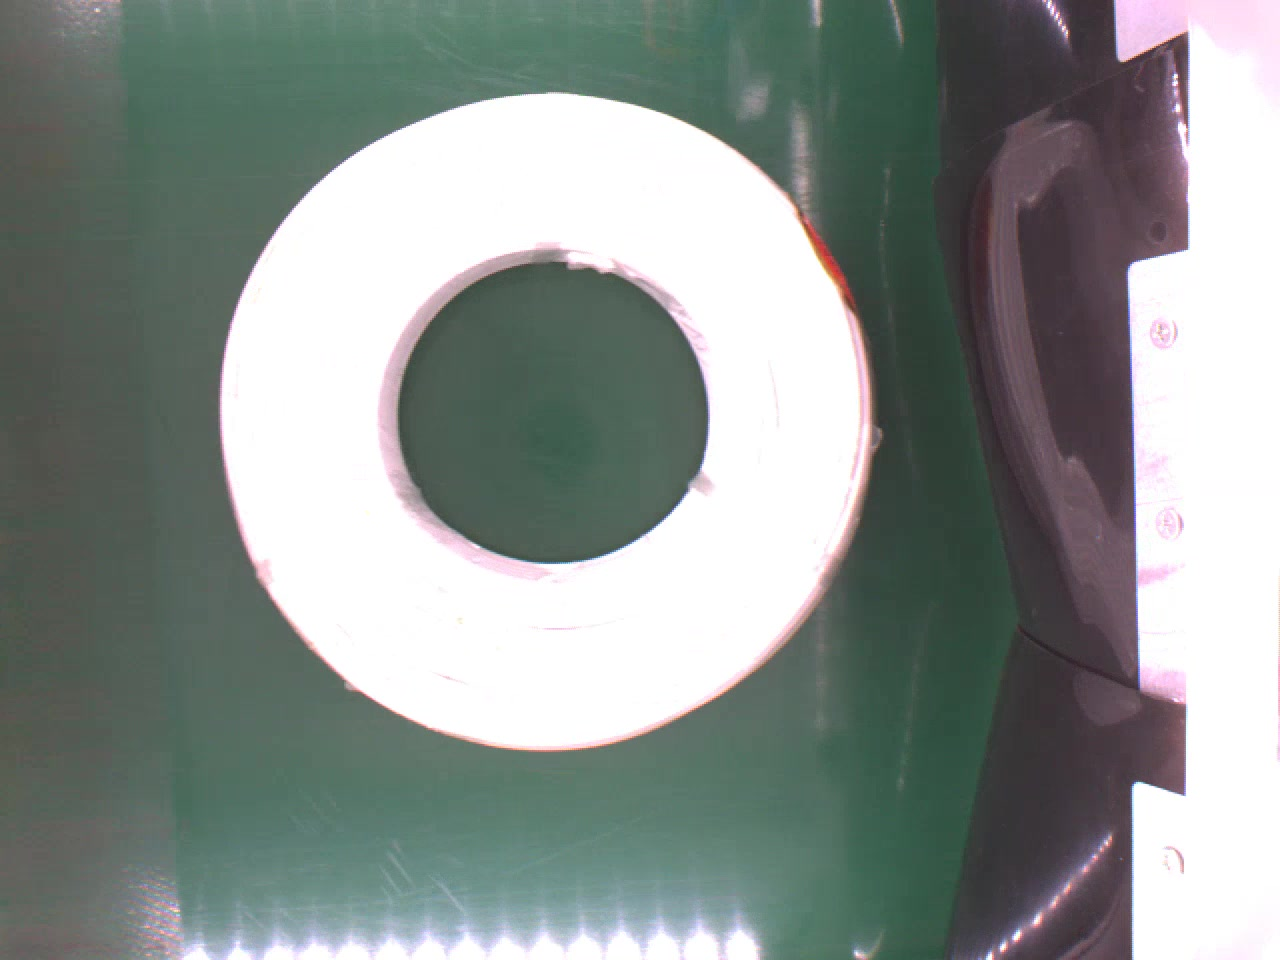white: (191, 82, 882, 756)
